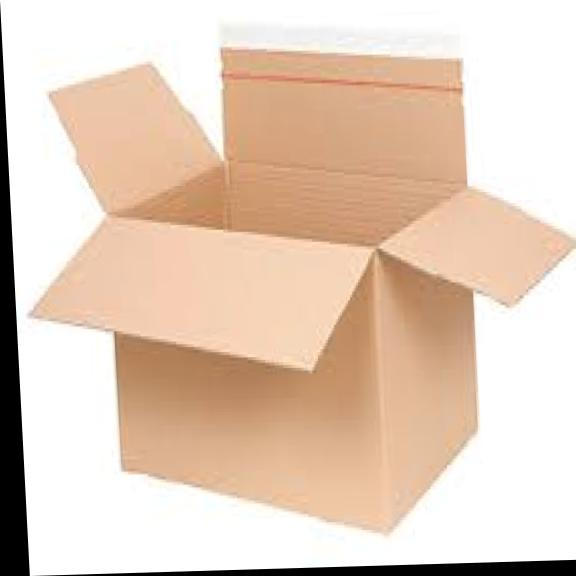Kertas: (34, 49, 574, 530)
